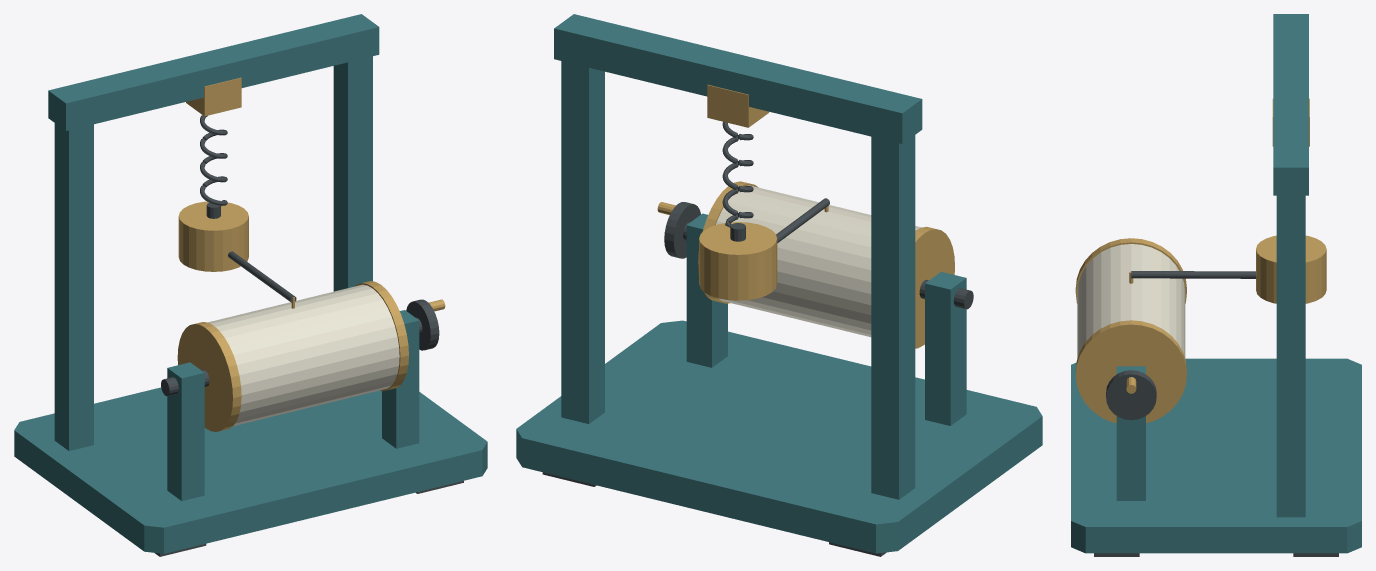
The picture shows the model from 3 angles, left to right: view 1: azimuth 30°, elevation 25°; view 2: azimuth 150°, elevation 25°; view 3: azimuth 270°, elevation 25°; orthographic projection. The views are drawn at different scales.
Parts seen in each view (by area): view 1: WholeCommonChamferedPlinth, WholeBlankRecordingDrum, WholeRearPortalHeader, WholeRearPortalPost0, WholeRearPortalPost1, WholeIndependentDrumBearingPost0, WholeDrumEndHead0, WholeSuspendedMass, WholeIndependentDrumBearingPost1, WholeSuspensionTopBlock, WholeDrumEndHead1, WholeSideHandwheel (+2 smaller); view 2: WholeCommonChamferedPlinth, WholeRearPortalHeader, WholeRearPortalPost0, WholeRearPortalPost1, WholeBlankRecordingDrum, WholeIndependentDrumBearingPost0, WholeSuspendedMass, WholeIndependentDrumBearingPost1, WholeDrumEndHead0, WholeSuspensionTopBlock, WholeContinuousCoilAndTerminalTails, WholeSideHandwheel; view 3: WholeCommonChamferedPlinth, WholeRearPortalPost1, WholeBlankRecordingDrum, WholeDrumEndHead1, WholeRearPortalHeader, WholeIndependentDrumBearingPost1, WholeSuspendedMass, WholeSideHandwheel, WholeForwardRecordingArm, WholeDrumEndHead0.
Boxes of the visible parts, bbox=[...] form: WholeCommonChamferedPlinth: bbox=[14, 387, 487, 553]; WholeBlankRecordingDrum: bbox=[207, 284, 399, 426]; WholeRearPortalHeader: bbox=[48, 14, 379, 130]; WholeRearPortalPost0: bbox=[54, 123, 93, 450]; WholeRearPortalPost1: bbox=[333, 56, 372, 291]; WholeIndependentDrumBearingPost0: bbox=[167, 362, 204, 500]; WholeDrumEndHead0: bbox=[177, 322, 241, 431]; WholeSuspendedMass: bbox=[178, 201, 248, 271]; WholeIndependentDrumBearingPost1: bbox=[382, 310, 419, 448]; WholeSuspensionTopBlock: bbox=[186, 77, 241, 116]; WholeDrumEndHead1: bbox=[354, 281, 408, 391]; WholeSideHandwheel: bbox=[406, 299, 439, 350]; WholeCommonChamferedPlinth: bbox=[516, 320, 1042, 553]; WholeRearPortalHeader: bbox=[554, 14, 922, 143]; WholeRearPortalPost0: bbox=[871, 135, 915, 499]; WholeRearPortalPost1: bbox=[561, 61, 604, 423]; WholeBlankRecordingDrum: bbox=[716, 185, 921, 337]; WholeIndependentDrumBearingPost0: bbox=[925, 271, 966, 425]; WholeSuspendedMass: bbox=[699, 222, 777, 300]; WholeIndependentDrumBearingPost1: bbox=[686, 213, 727, 367]; WholeDrumEndHead0: bbox=[915, 226, 954, 348]; WholeSuspensionTopBlock: bbox=[707, 84, 769, 127]; WholeContinuousCoilAndTerminalTails: bbox=[722, 121, 753, 227]; WholeSideHandwheel: bbox=[664, 202, 700, 258]; WholeCommonChamferedPlinth: bbox=[1071, 358, 1361, 553]; WholeRearPortalPost1: bbox=[1276, 195, 1305, 517]; WholeBlankRecordingDrum: bbox=[1077, 244, 1185, 358]; WholeDrumEndHead1: bbox=[1075, 320, 1186, 423]; WholeRearPortalHeader: bbox=[1273, 14, 1308, 195]; WholeIndependentDrumBearingPost1: bbox=[1116, 366, 1145, 500]; WholeSuspendedMass: bbox=[1256, 235, 1326, 303]; WholeSideHandwheel: bbox=[1106, 370, 1156, 420]; WholeForwardRecordingArm: bbox=[1131, 271, 1256, 278]; WholeDrumEndHead0: bbox=[1075, 238, 1186, 303].
Bounding box in the file's own units: 0.96 × 1.04 × 0.7.
